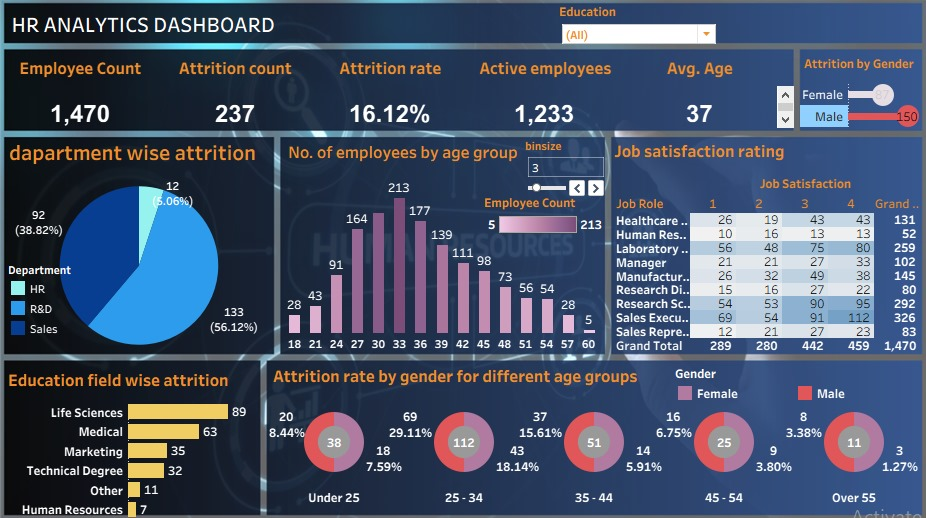

The page's visual inventory and layout, read from the dashboard file:
{"tool":"tableau","page":{"name":"Dashboard 1","canvas":[1000,1000],"units":"permille","ordinal":0},"visuals":[{"type":"image","param":"Image/dashboard4.png","box":[8.4,14.3,983.2,971.4]},{"type":"filter","title":"Education field wise attrition","param":"[federated.0wii3b0087rry613nrkg31idad7m].[none:Education:nk]","box":[601.1,42.9,168.4,246.4]},{"type":"text","box":[22.1,53.6,283.2,53.6]},{"type":"worksheet","title":"KPI","mark":"Text","box":[15.8,126.8,833.7,139.3]},{"type":"worksheet","title":"Attrition by Gender","mark":"Circle","rows":["Gender"],"cols":["Calculation_914512262991142912","Calculation_914512262991142912"],"box":[854.7,128.6,128.4,135.7]},{"type":"worksheet","title":"dapartment wise attrition","mark":"Pie","box":[17.9,276.8,282.1,392.9]},{"type":"worksheet","title":"Job satisfaction rating","mark":"Square","rows":["Job Role"],"cols":["Job Satisfaction"],"box":[654.7,280.4,326.3,385.7]},{"type":"worksheet","title":"No. of employees by age group","mark":"Automatic","rows":["Employee Count"],"cols":["Age (bin)"],"box":[311.6,282.1,332.6,385.7]},{"type":"parameter","param":"[Parameters].[Parameter 1]","box":[565.3,283.9,86.3,121.4]},{"type":"legend","title":"No. of employees by age group","param":"[federated.0wii3b0087rry613nrkg31idad7m].[sum:Employee Count:qk]","box":[522.1,383.9,129.5,87.5]},{"type":"legend","title":"dapartment wise attrition","param":"[federated.0wii3b0087rry613nrkg31idad7m].[none:Department:nk]","box":[21.1,505.4,79,157.1]},{"type":"worksheet","title":"Attrition rate by gender for different age groups","mark":"Pie","rows":["Calculation_1184728241694564353","Calculation_1184728241694564353"],"cols":["CF_age band"],"box":[295.8,682.1,684.2,275]},{"type":"worksheet","title":"Education field wise attrition","mark":"Automatic","rows":["Education Field"],"cols":["Calculation_914512262991142912"],"box":[16.8,689.3,265.3,275]},{"type":"legend","title":"Attrition rate by gender for different age groups","param":"[federated.0wii3b0087rry613nrkg31idad7m].[none:Gender:nk]","box":[723.2,689.3,262.1,103.6]}]}

Visuals, with their boxes on the dashboard's canvas, which has no fixed pixel size, in thousandths of its width and height (x1, y1, x2, y2). These are canvas units, not pixel positions in the 926x518 screenshot, which may show the page scaled, cropped or inside an application window:
image: bbox(8, 14, 992, 986)
"Education field wise attrition" filter: bbox(601, 43, 770, 289)
text: bbox(22, 54, 305, 107)
"KPI" worksheet (Text marks): bbox(16, 127, 850, 266)
"Attrition by Gender" worksheet (Circle marks): bbox(855, 129, 983, 264)
"dapartment wise attrition" worksheet (Pie marks): bbox(18, 277, 300, 670)
"Job satisfaction rating" worksheet (Square marks): bbox(655, 280, 981, 666)
"No. of employees by age group" worksheet: bbox(312, 282, 644, 668)
parameter: bbox(565, 284, 652, 405)
"No. of employees by age group" legend: bbox(522, 384, 652, 471)
"dapartment wise attrition" legend: bbox(21, 505, 100, 662)
"Attrition rate by gender for different age groups" worksheet (Pie marks): bbox(296, 682, 980, 957)
"Education field wise attrition" worksheet: bbox(17, 689, 282, 964)
"Attrition rate by gender for different age groups" legend: bbox(723, 689, 985, 793)
